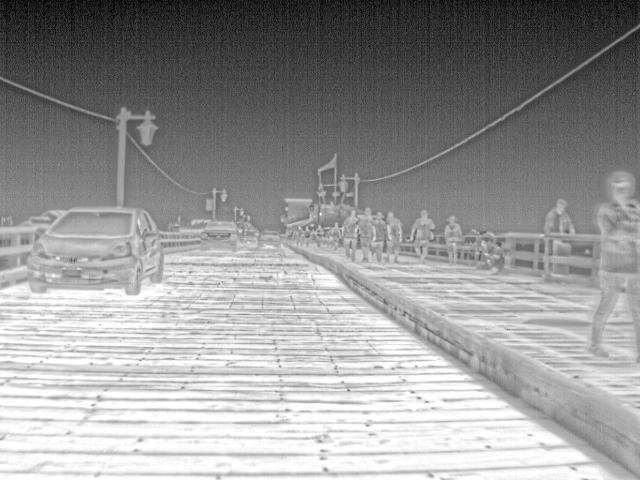car: (25, 208, 166, 294), (198, 220, 241, 252), (255, 228, 284, 247), (241, 230, 257, 244)
person: (588, 169, 638, 359), (410, 209, 434, 262), (541, 198, 576, 234), (354, 208, 377, 259), (441, 214, 464, 264), (384, 211, 407, 261), (341, 205, 360, 258), (370, 210, 387, 261), (328, 220, 343, 252), (290, 224, 304, 247), (313, 224, 326, 248), (300, 224, 313, 247)
